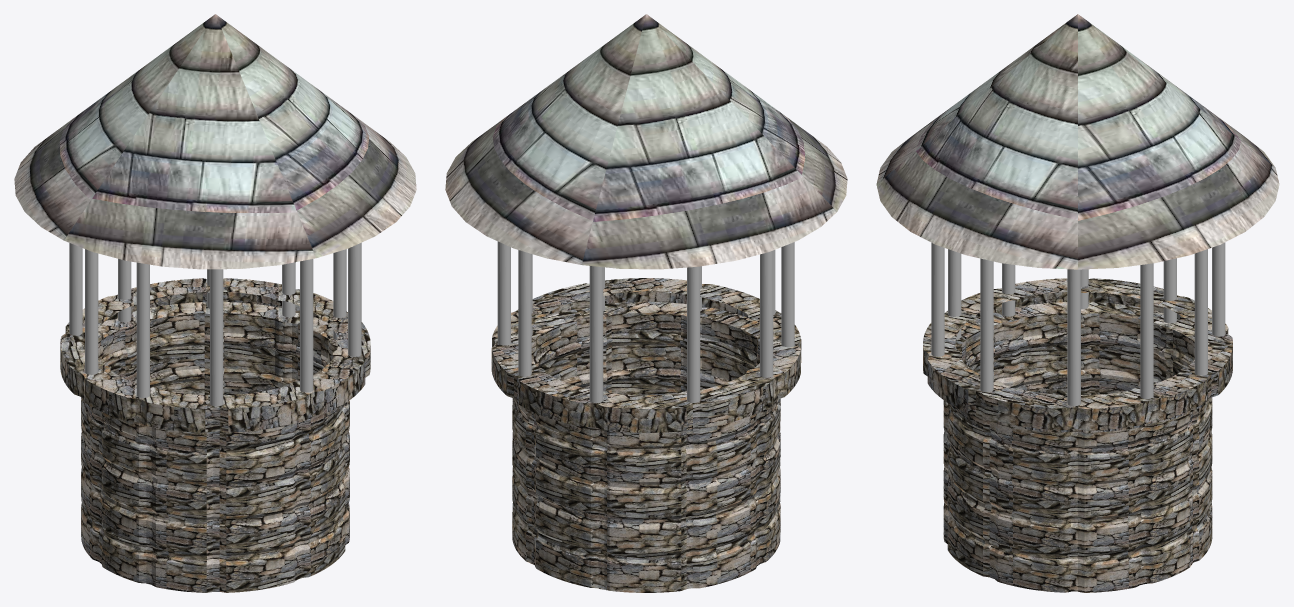
The model's file is well.fbx.
The picture shows the model from 3 angles, left to right: view 1: azimuth 30°, elevation 25°; view 2: azimuth 150°, elevation 25°; view 3: azimuth 270°, elevation 25°; orthographic projection.
Parts seen in each view (by area): view 1: Cylinder, Cone, Cylinder.008, Cylinder.007, Cylinder.009, Cylinder.006, Cylinder.010, Cylinder.005, Cylinder.001, Cylinder.004, Cylinder.002; view 2: Cylinder, Cone, Cylinder.004, Cylinder.005, Cylinder.006, Cylinder.003, Cylinder.007, Cylinder.002; view 3: Cylinder, Cone, Cylinder.001, Cylinder.002, Cylinder.010, Cylinder.003, Cylinder.009, Cylinder.004, Cylinder.008, Cylinder.005, Cylinder.007.
Boxes of the visible parts, x1,y1,x2,y2 form: Cylinder: [60, 278, 370, 592]; Cone: [14, 14, 416, 269]; Cylinder.008: [210, 269, 223, 406]; Cylinder.007: [136, 262, 149, 397]; Cylinder.009: [300, 259, 313, 392]; Cylinder.006: [85, 249, 98, 374]; Cylinder.010: [348, 242, 361, 356]; Cylinder.005: [69, 243, 82, 335]; Cylinder.001: [333, 249, 346, 339]; Cylinder.004: [118, 259, 131, 322]; Cylinder.002: [282, 262, 295, 317]; Cylinder: [491, 278, 801, 592]; Cone: [445, 14, 847, 269]; Cylinder.004: [589, 266, 603, 402]; Cylinder.005: [687, 266, 700, 402]; Cylinder.006: [760, 250, 773, 377]; Cylinder.003: [518, 250, 531, 376]; Cylinder.007: [781, 242, 794, 346]; Cylinder.002: [497, 241, 510, 345]; Cylinder: [923, 278, 1232, 592]; Cone: [876, 14, 1279, 269]; Cylinder.001: [1067, 269, 1080, 406]; Cylinder.002: [1140, 263, 1153, 398]; Cylinder.010: [980, 258, 993, 392]; Cylinder.003: [1194, 249, 1207, 375]; Cylinder.009: [931, 243, 944, 356]; Cylinder.004: [1212, 242, 1225, 336]; Cylinder.008: [948, 249, 961, 339]; Cylinder.005: [1163, 258, 1176, 323]; Cylinder.007: [1002, 263, 1015, 316].
Size of the model in its own units: 300 by 429 by 300.
